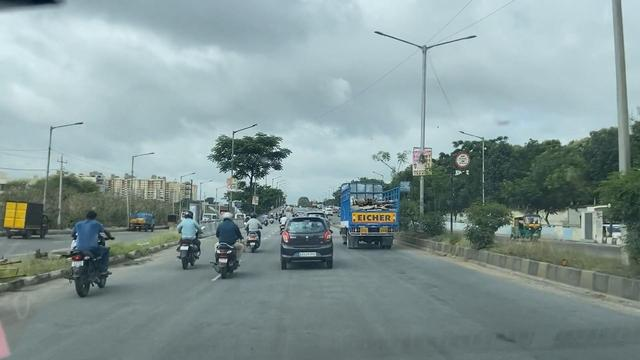HMV: (342, 183, 397, 244)
LMV: (68, 211, 108, 297), (279, 219, 331, 270), (214, 212, 236, 280), (171, 213, 198, 268), (244, 209, 264, 260)
